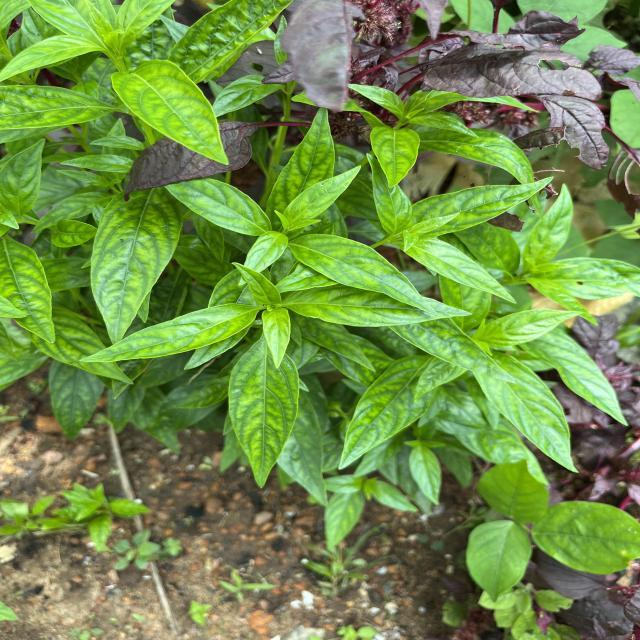Andrographis paniculata: (89, 190, 184, 346), (108, 55, 236, 167), (478, 351, 582, 476), (337, 353, 442, 472), (290, 232, 436, 316), (78, 301, 256, 363), (227, 338, 300, 489), (412, 173, 554, 238), (403, 234, 519, 306), (0, 233, 58, 347), (167, 178, 272, 236), (283, 165, 362, 229), (0, 32, 102, 81), (479, 308, 588, 348), (366, 124, 424, 189)
